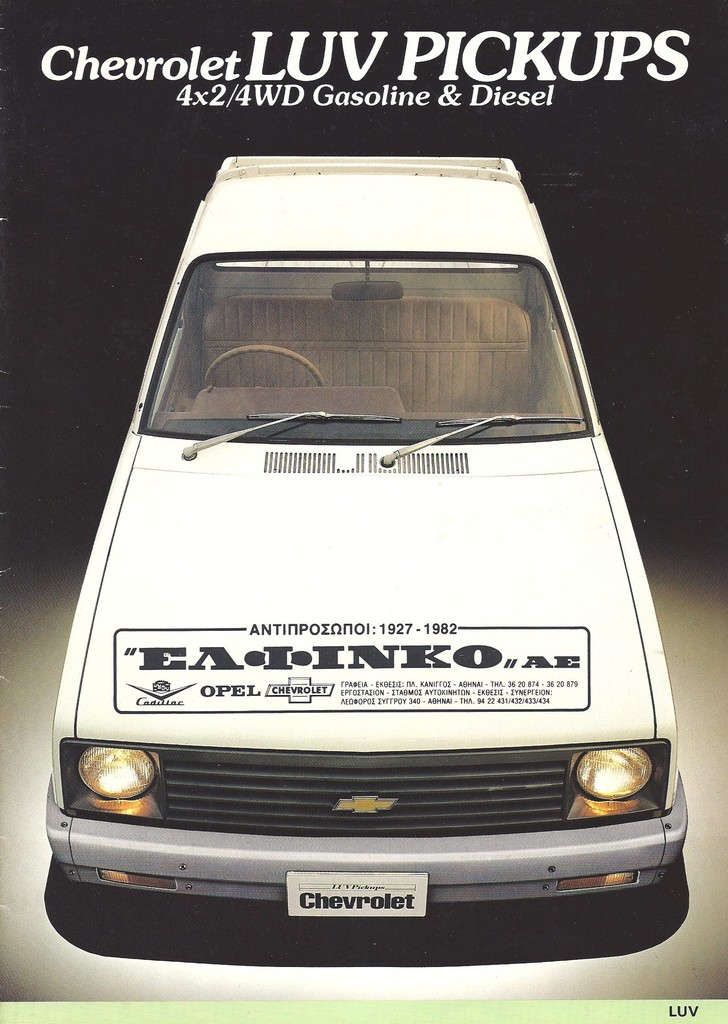Car: (42, 154, 690, 919)
